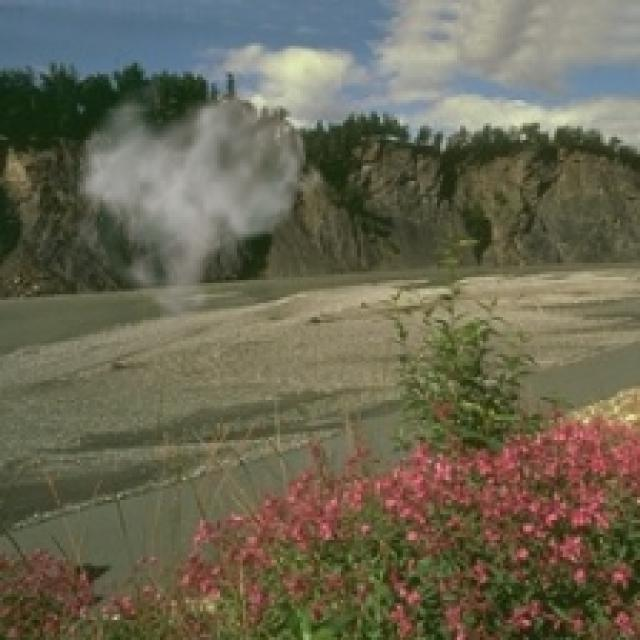smoke: (63, 66, 328, 337)
